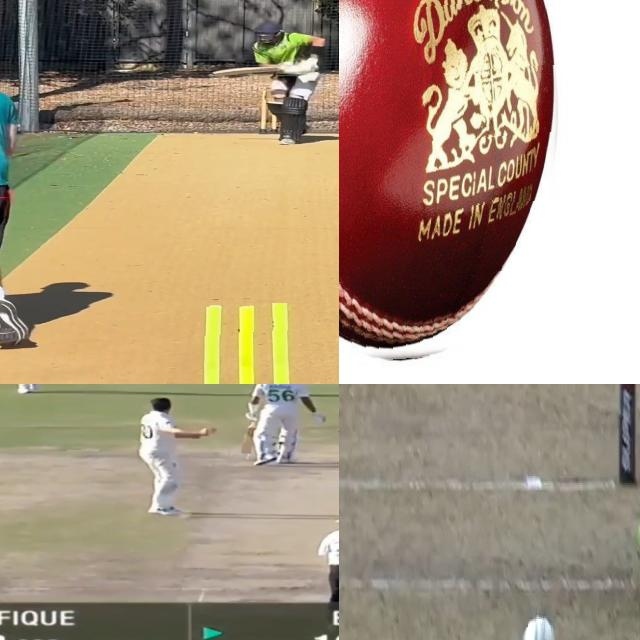Cricket ball: (339, 0, 565, 372), (521, 612, 561, 640)
Stumps: (188, 303, 313, 384)
